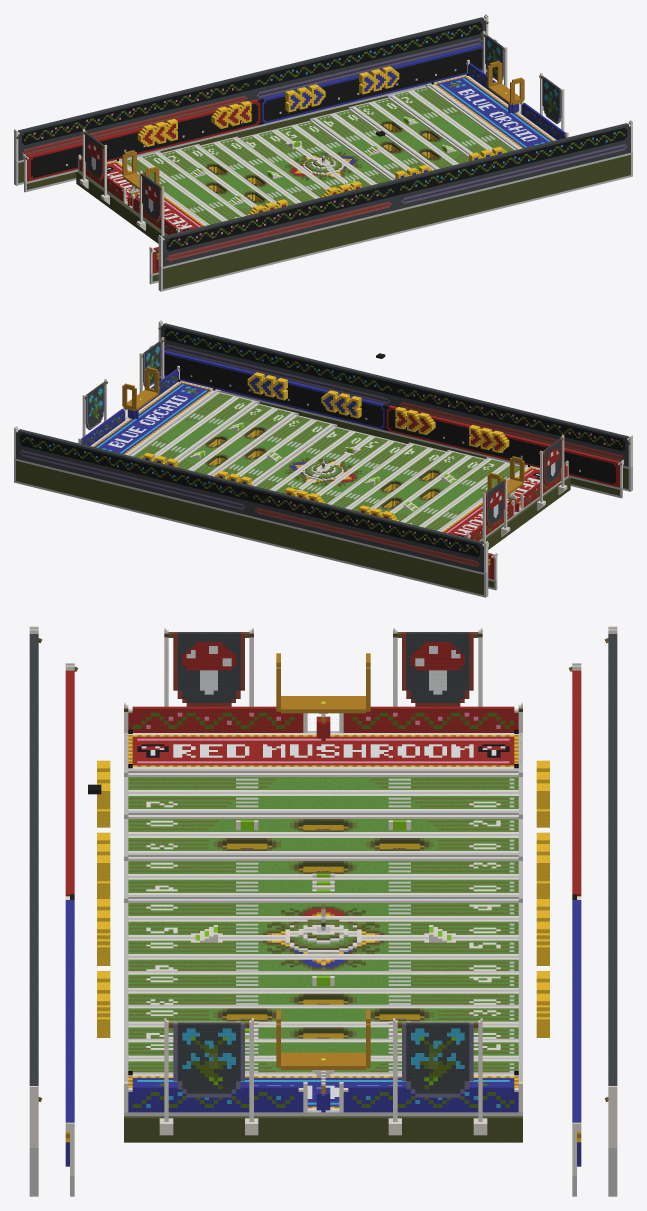
The model's file is minecraft.obj.
3 renders of one model, top to bottom at view 1: azimuth 30°, elevation 25°; view 2: azimuth 150°, elevation 25°; view 3: azimuth 270°, elevation 25°, orthographic. The views are drawn at different scales.
Bounding box in the file's own units: 243 × 44 × 131.
